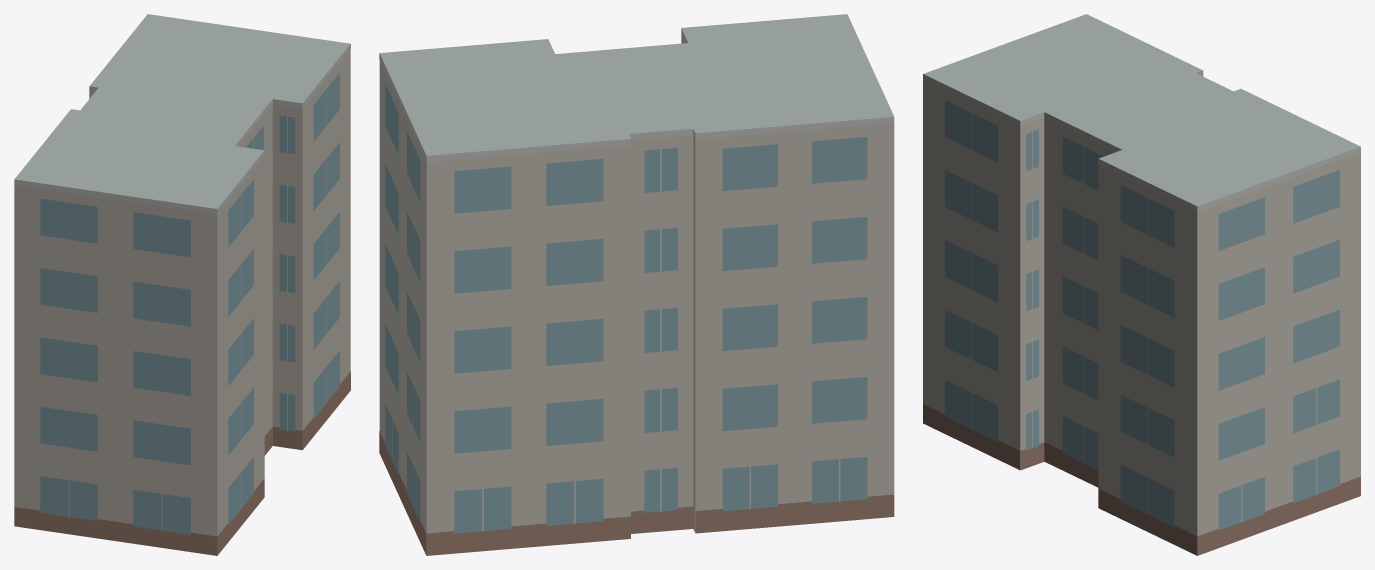
File: survey-upis-33000903.glb
3 views of the same model, side by side, from view 1: azimuth 30°, elevation 25°; view 2: azimuth 150°, elevation 25°; view 3: azimuth 270°, elevation 25° (orthographic). The views are drawn at different scales.
Visible parts, largest first — view 1: survey-upis-33000903.tmp; view 2: survey-upis-33000903.tmp; view 3: survey-upis-33000903.tmp.
Boxes of the visible parts, x1,y1,x2,y2 form: survey-upis-33000903.tmp: (14,14,350,555); survey-upis-33000903.tmp: (379,14,894,555); survey-upis-33000903.tmp: (923,14,1360,555).
Size of the model in its own units: 17.72 by 15 by 17.04.
